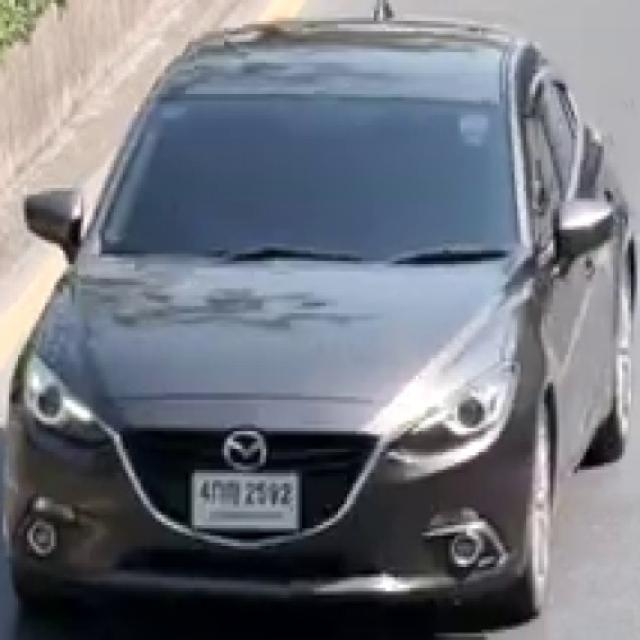plate: (192, 472, 295, 528)
